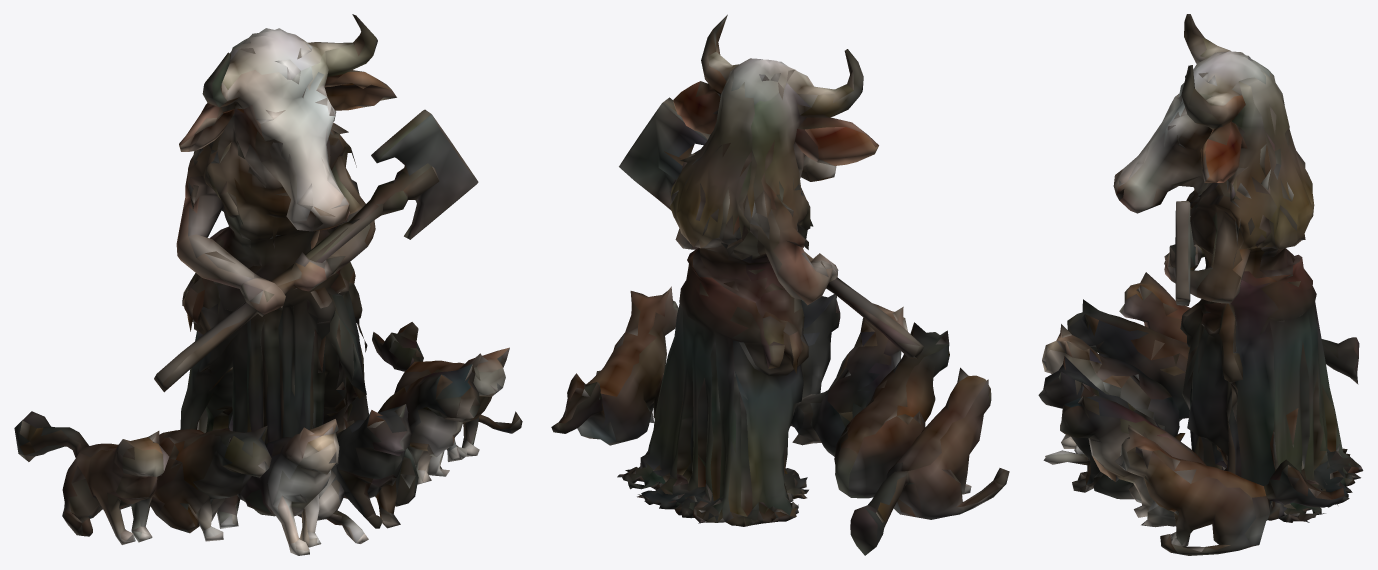
Rendered from Crazy_Cat_Cow_small_final.glb.
3 views of the same model, side by side, from view 1: azimuth 30°, elevation 25°; view 2: azimuth 150°, elevation 25°; view 3: azimuth 270°, elevation 25° (orthographic). The views are drawn at different scales.
Visible parts, largest first — view 1: Mesh1.0; view 2: Mesh1.0; view 3: Mesh1.0.
Part boxes in pixels (x1,y1,x2,y2): Mesh1.0: [14, 14, 522, 555]; Mesh1.0: [551, 14, 1009, 555]; Mesh1.0: [1038, 14, 1363, 555].
Size of the model in its own units: 1.91 by 1.91 by 1.29.
1 material, 1 textured.
